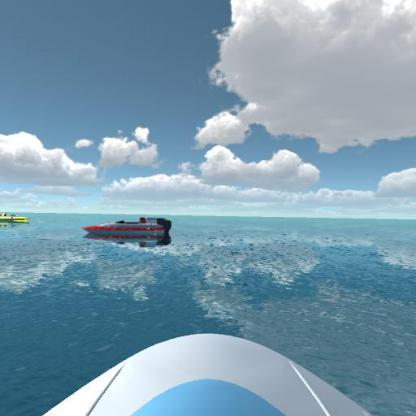usv2: (0, 206, 31, 231)
usv3: (79, 212, 173, 250)
